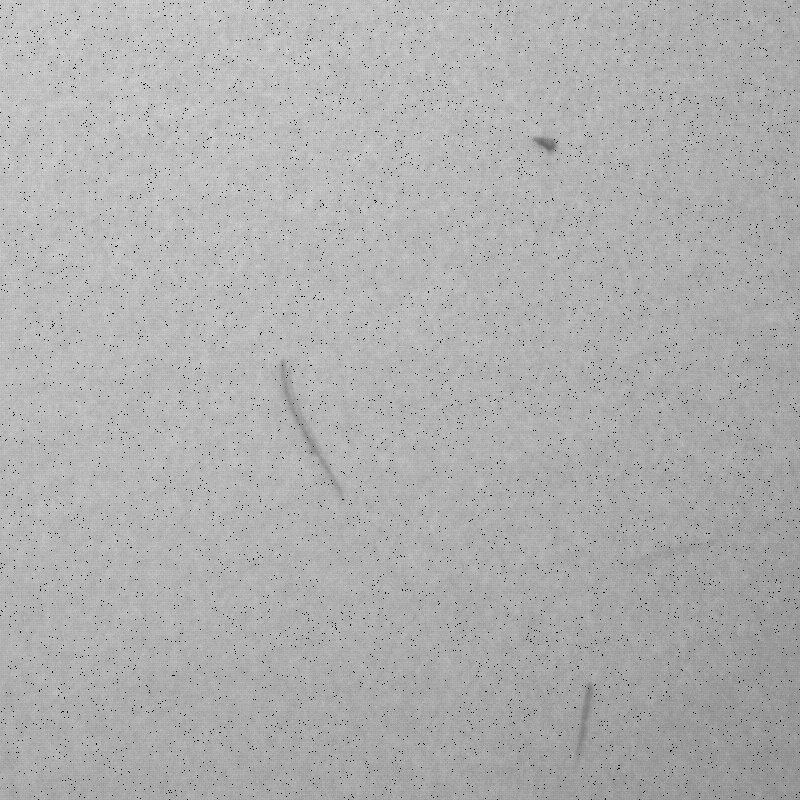defect: (271, 352, 351, 504), (566, 680, 600, 768), (528, 128, 565, 157)
